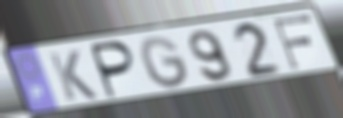2: (233, 20, 284, 79)
9: (186, 29, 235, 82)
F: (272, 13, 316, 72)
G: (138, 35, 193, 91)
K: (46, 48, 101, 103)
P: (89, 39, 139, 102)
